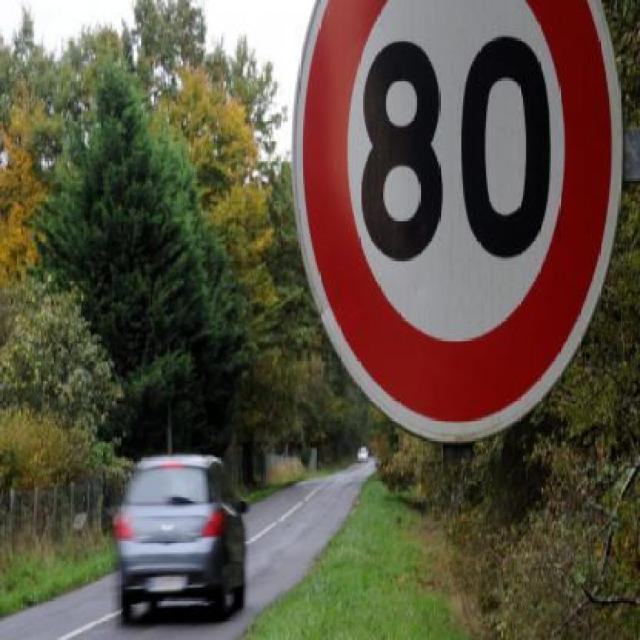traffic_sign: (310, 8, 588, 369)
